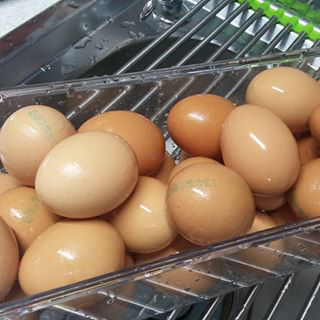egg: (1, 66, 320, 303)
